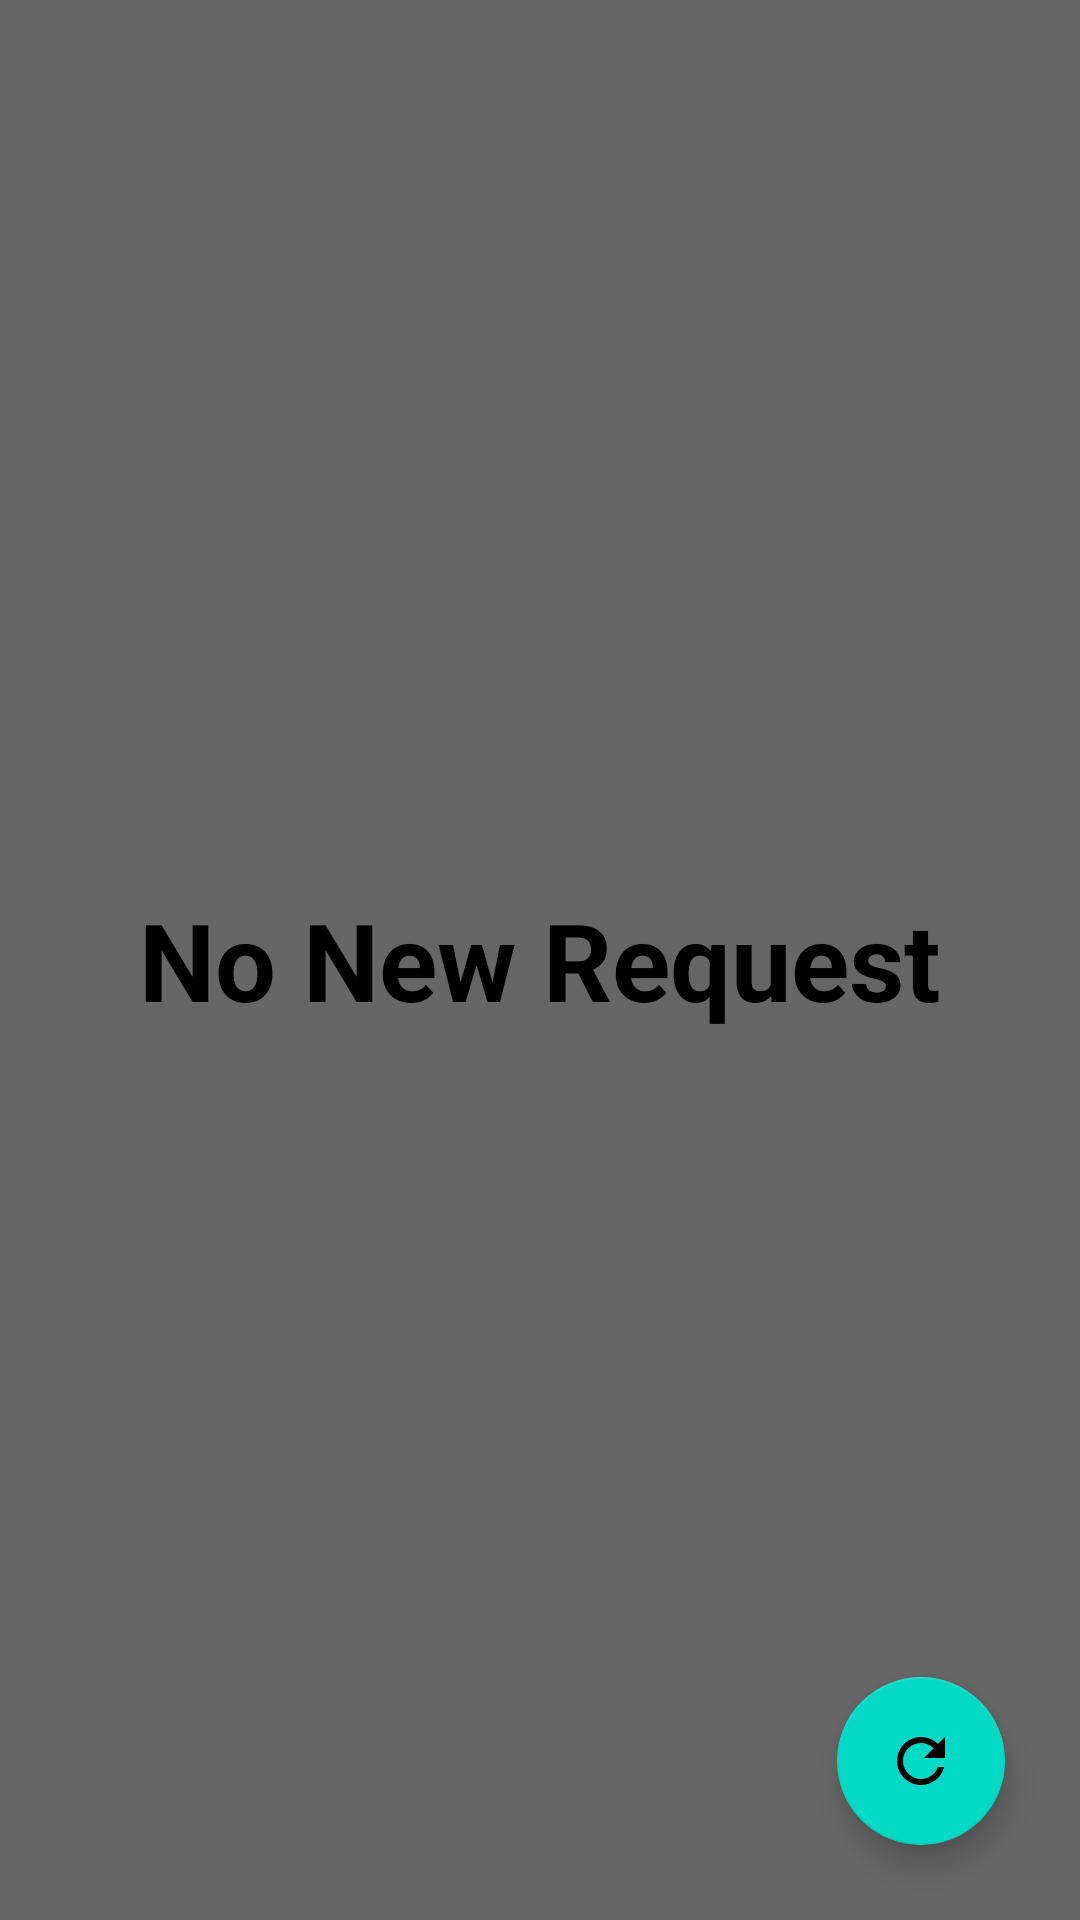

Where to tap for icons on this 1080px x 1920px app screen, as (x,y):
refresh: (921,1761)
